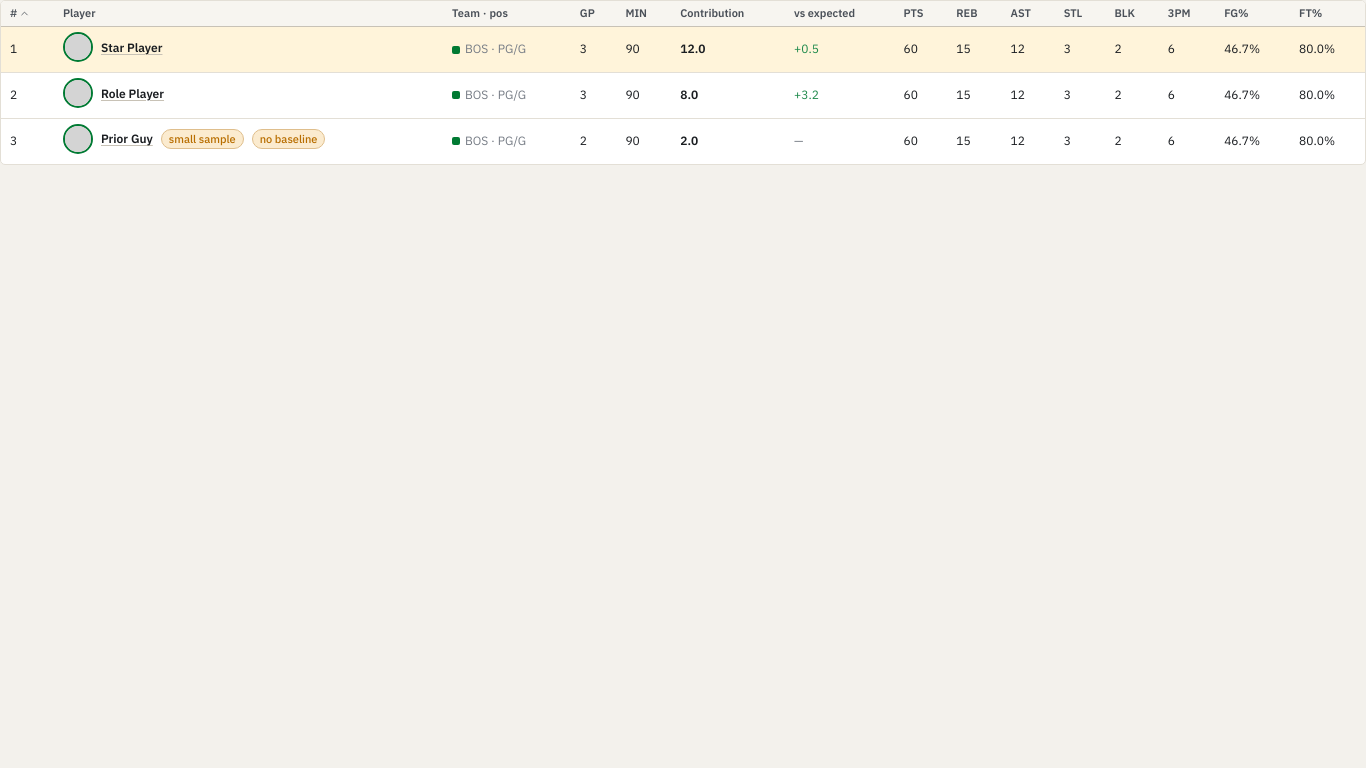
PerformerTable › expands a row to the full stat line with makes and attempts
Click the button with aria-label "details for Star Player": (132, 47) [101,40,162,55]
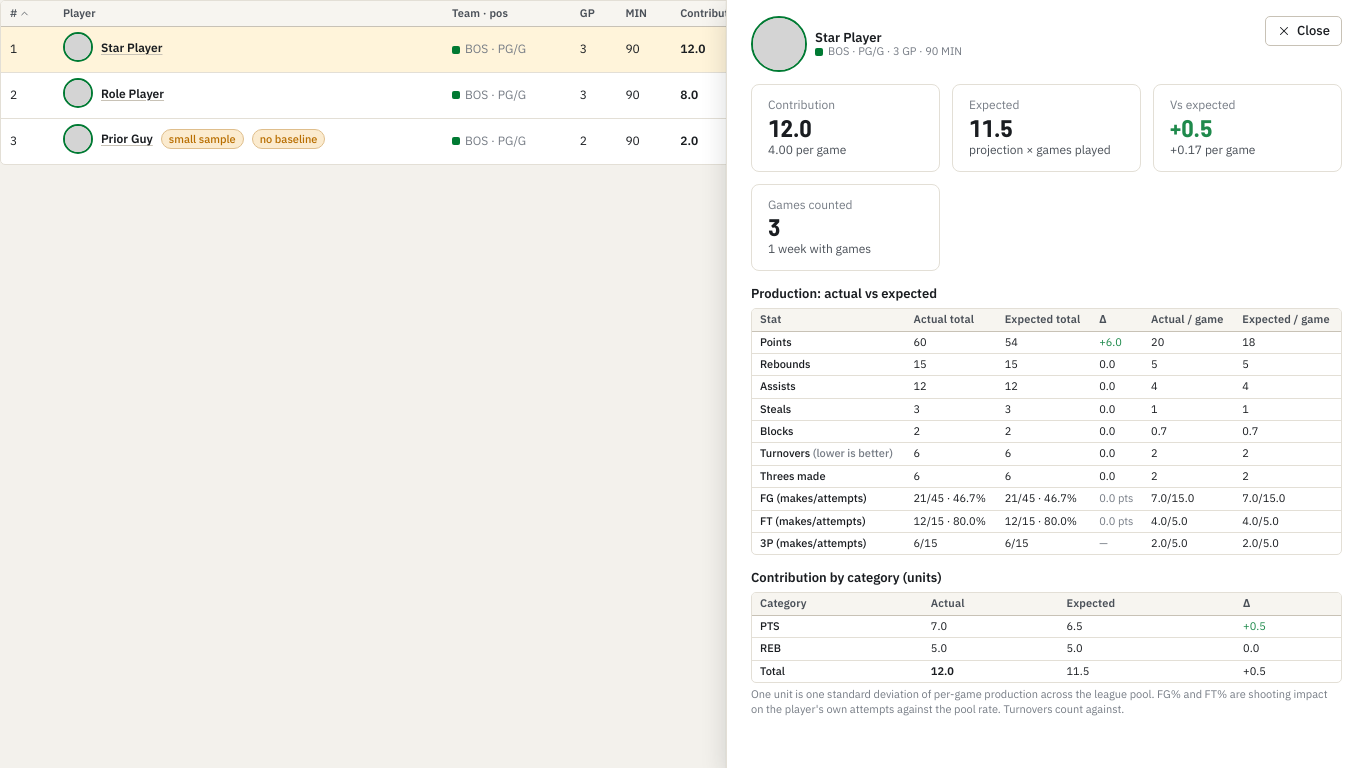
Now the dialog with test id "performer-detail" shows "21/45", box [1005,491,1077,505]
Now the dialog with test id "performer-detail" shows "46.7%", box [944,491,986,505]
Now the dialog with test id "performer-detail" shows "Turnovers", box [760,446,810,460]
